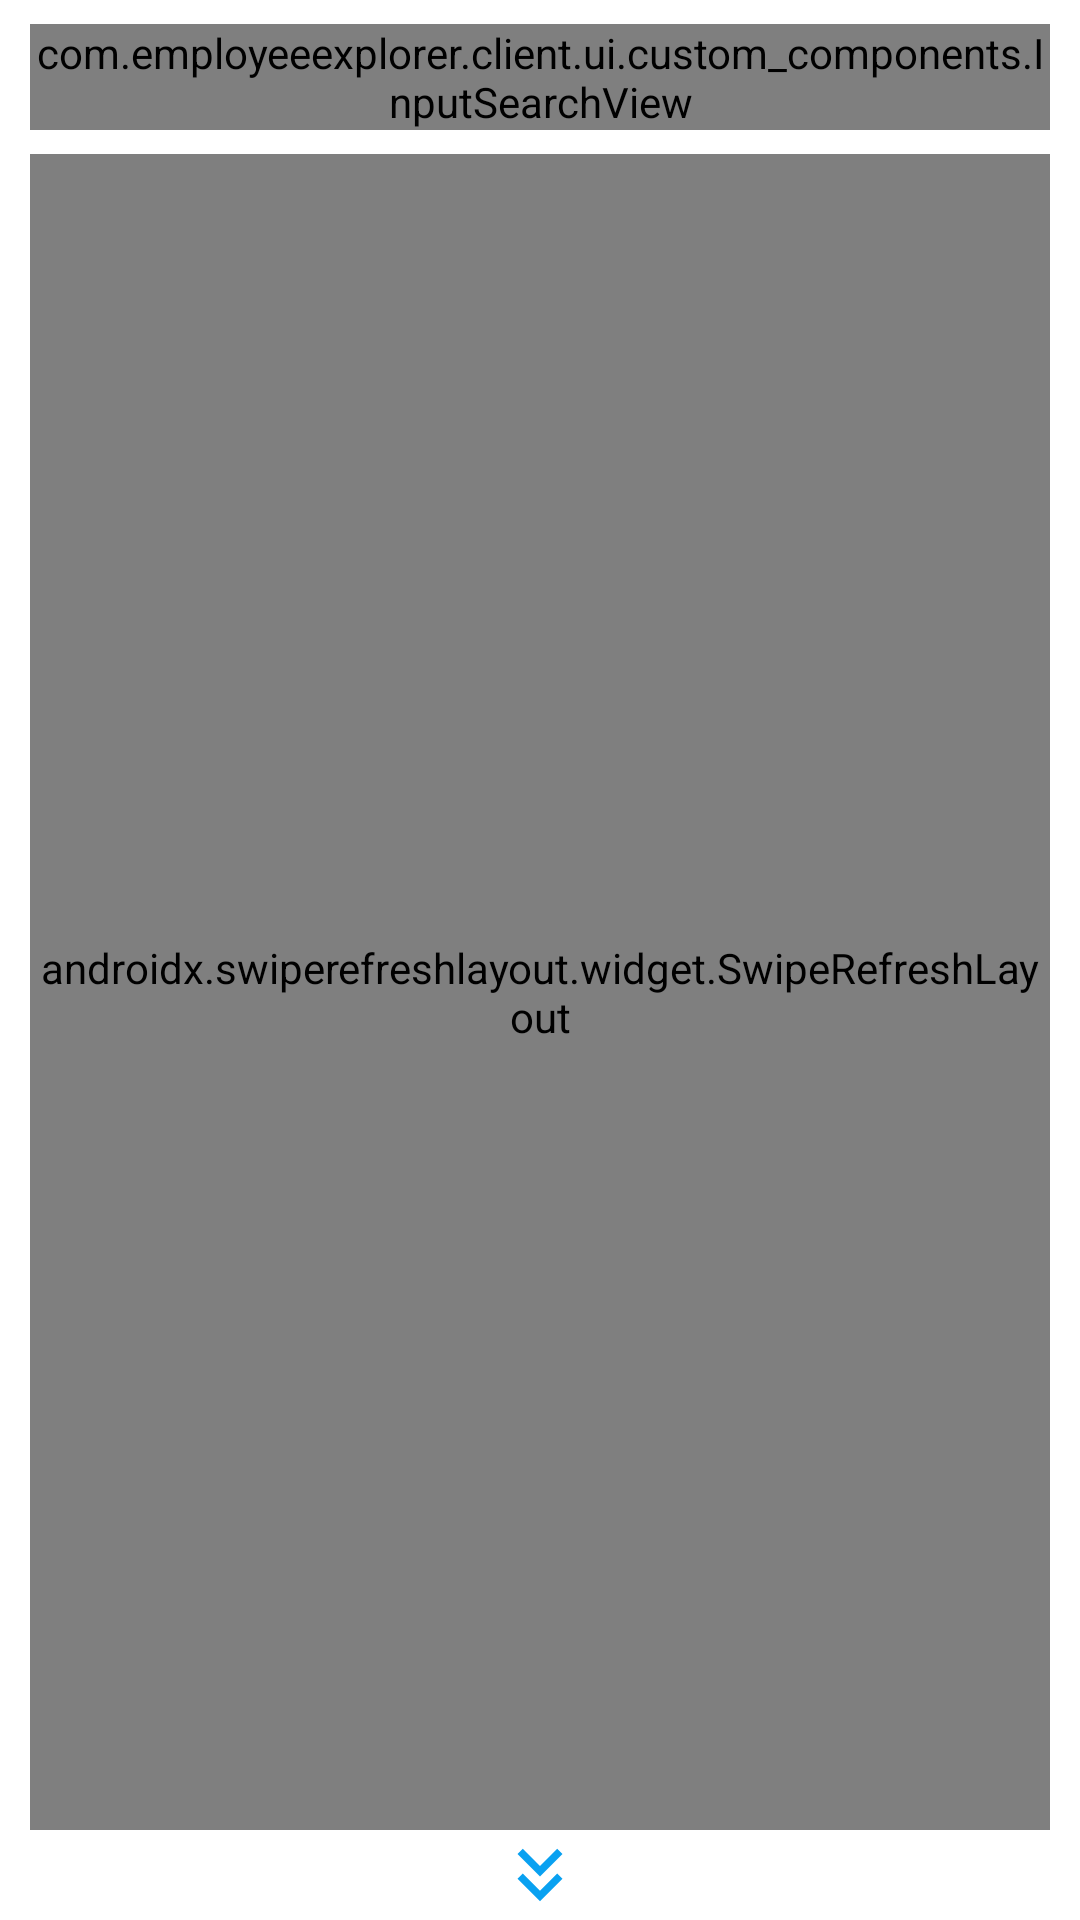

Icon bounding boxes for this 1080w x 1920h phone screenshot, format (x1, y1, x2, y2):
swipe down: (517, 1849, 563, 1901)
